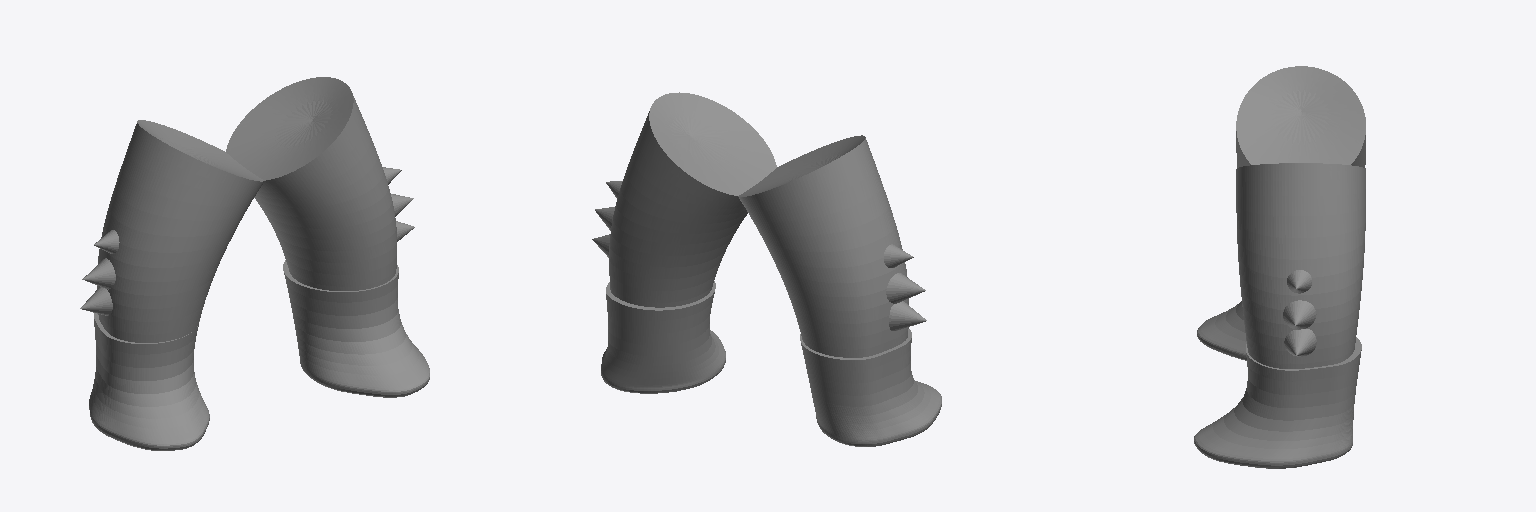
File: LaPulga_Inferior.obj
The picture shows the model from 3 angles: view 1: azimuth 30°, elevation 25°; view 2: azimuth 150°, elevation 25°; view 3: azimuth 270°, elevation 25°; orthographic projection.
Parts seen in each view (by area): view 1: BrazoIzquierdo; view 2: BrazoIzquierdo; view 3: BrazoIzquierdo.
Boxes of the visible parts, box(x1,y1,x2,y2) form: BrazoIzquierdo: box(80, 77, 429, 450); BrazoIzquierdo: box(592, 92, 941, 446); BrazoIzquierdo: box(1194, 66, 1365, 468).
Bounding box in the file's own units: 13.84 × 11.13 × 6.15.